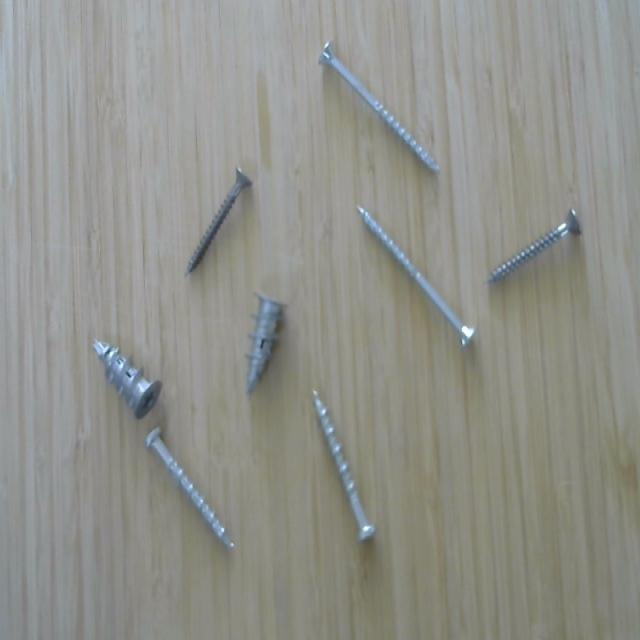Black screw: (183, 158, 257, 286), (484, 202, 584, 292)
Long screw: (352, 200, 479, 353), (315, 36, 444, 182)
Medium screw: (303, 382, 382, 556), (142, 424, 241, 557)
Short screw: (86, 329, 165, 424), (239, 288, 288, 406)
